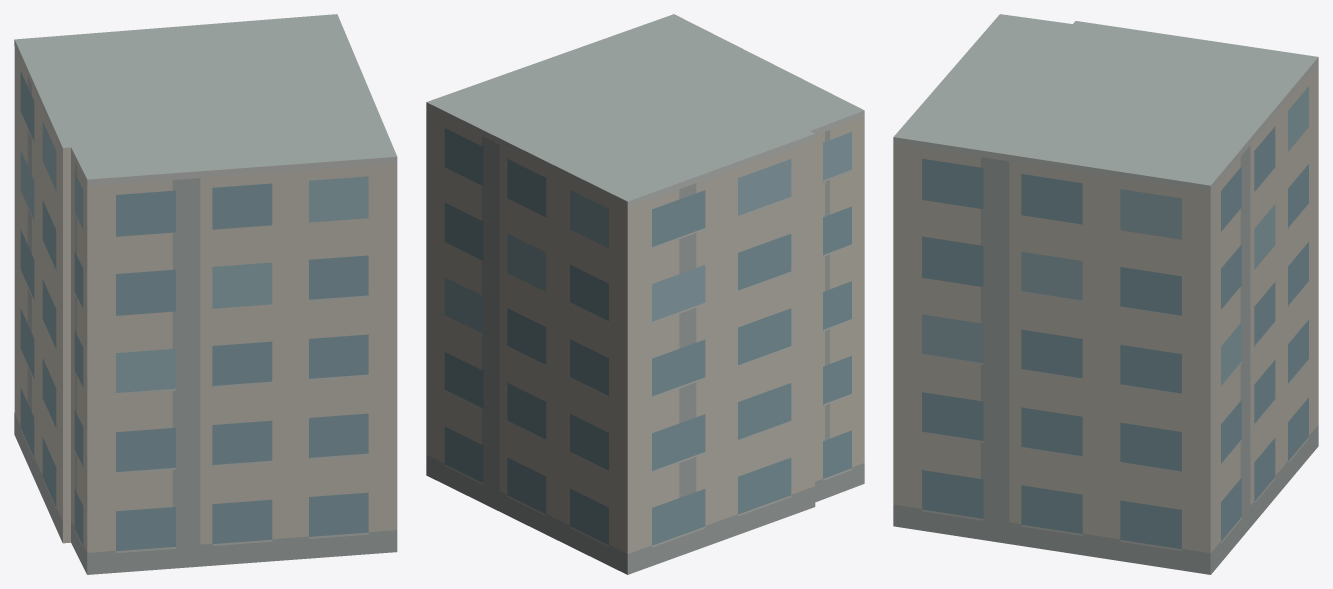
File: survey-upis-32886860.glb
3 renders of one model, left to right at view 1: azimuth 30°, elevation 25°; view 2: azimuth 150°, elevation 25°; view 3: azimuth 270°, elevation 25°, orthographic. The views are drawn at different scales.
Parts seen in each view (by area): view 1: survey-upis-32886860.tmp; view 2: survey-upis-32886860.tmp; view 3: survey-upis-32886860.tmp.
Boxes of the visible parts, bbox=[...] form: survey-upis-32886860.tmp: bbox=[14, 14, 397, 574]; survey-upis-32886860.tmp: bbox=[426, 14, 864, 574]; survey-upis-32886860.tmp: bbox=[893, 14, 1318, 574].
Size of the model in its own units: 13.53 by 14.3 by 14.17.
